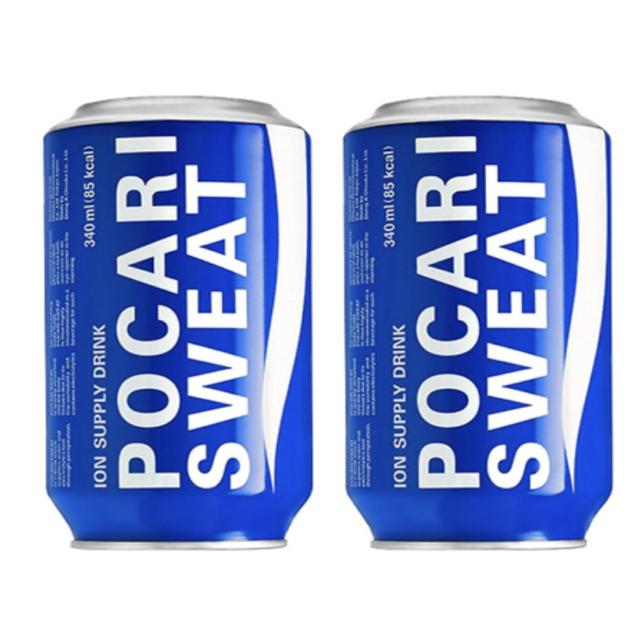can: (319, 72, 630, 588), (25, 75, 342, 580)
